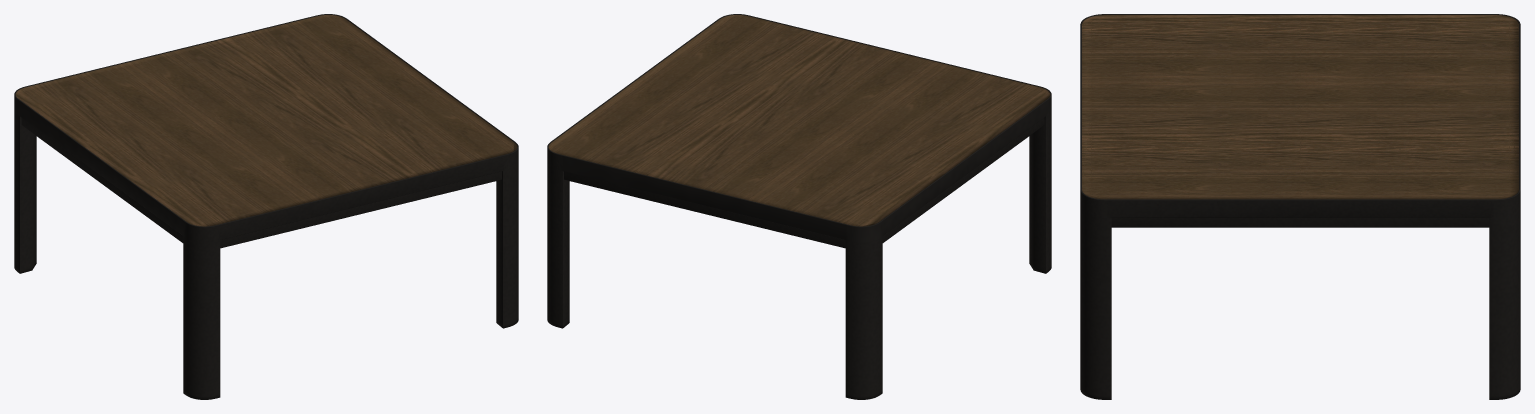
File: table.obj
3 views of the same model, side by side, from view 1: azimuth 30°, elevation 25°; view 2: azimuth 150°, elevation 25°; view 3: azimuth 270°, elevation 25° (orthographic). The views are drawn at different scales.
Parts seen in each view (by area): view 1: Cube, Cube.002; view 2: Cube, Cube.002; view 3: Cube, Cube.002.
Part boxes in pixels (x1,y1,x2,y2): Cube: (14,14,518,399); Cube.002: (21,118,501,248); Cube: (547,14,1051,399); Cube.002: (564,118,1044,248); Cube: (1080,14,1520,399); Cube.002: (1111,218,1489,227).
Bounding box in the file's own units: 0.7 × 0.351 × 0.7.
